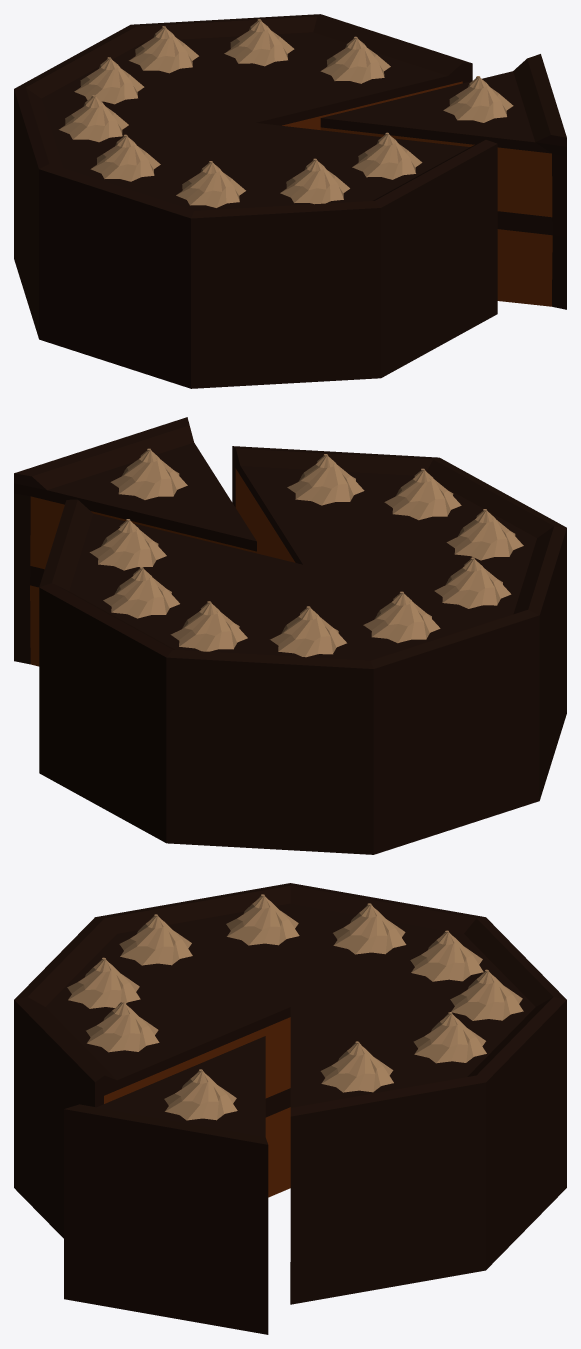
The model's file is Cake_Asam-Pahit_TamarindDarkChocolate-Brownies.fbx.
The picture shows the model from 3 angles, top to bottom: view 1: azimuth 30°, elevation 25°; view 2: azimuth 150°, elevation 25°; view 3: azimuth 270°, elevation 25°; orthographic projection. The views are drawn at different scales.
Visible parts, largest first — view 1: Cylinder, Cylinder.001, Cylinder.007, Cylinder.004, Cylinder.002, Cylinder.009, Cylinder.010, Cylinder.006, Cylinder.003, Cylinder.008, Cylinder.005, Cylinder.011; view 2: Cylinder, Cylinder.001, Cylinder.003, Cylinder.002, Cylinder.007, Cylinder.010, Cylinder.005, Cylinder.011, Cylinder.004, Cylinder.006, Cylinder.009, Cylinder.008; view 3: Cylinder, Cylinder.001, Cylinder.010, Cylinder.004, Cylinder.008, Cylinder.009, Cylinder.003, Cylinder.007, Cylinder.011, Cylinder.002, Cylinder.006, Cylinder.005.
Part boxes in pixels (<box>): Cylinder: <box>14,14,497,388</box>; Cylinder.001: <box>320,54,566,309</box>; Cylinder.007: <box>443,76,513,122</box>; Cylinder.004: <box>176,161,245,207</box>; Cylinder.002: <box>59,95,128,142</box>; Cylinder.009: <box>224,19,294,66</box>; Cylinder.010: <box>129,26,198,73</box>; Cylinder.006: <box>352,132,422,179</box>; Cylinder.003: <box>90,134,160,181</box>; Cylinder.008: <box>320,36,390,83</box>; Cylinder.005: <box>280,158,349,204</box>; Cylinder.011: <box>74,57,144,104</box>; Cylinder: <box>39,446,566,854</box>; Cylinder.001: <box>14,417,256,666</box>; Cylinder.003: <box>434,557,511,608</box>; Cylinder.002: <box>363,591,440,643</box>; Cylinder.007: <box>110,448,187,499</box>; Cylinder.010: <box>170,601,247,651</box>; Cylinder.005: <box>384,468,461,520</box>; Cylinder.011: <box>270,606,346,657</box>; Cylinder.004: <box>446,509,523,560</box>; Cylinder.006: <box>287,454,364,505</box>; Cylinder.009: <box>103,567,179,618</box>; Cylinder.008: <box>89,519,166,570</box>; Cylinder: <box>14,883,566,1304</box>; Cylinder.001: <box>64,1036,268,1334</box>; Cylinder.010: <box>450,969,523,1020</box>; Cylinder.004: <box>119,914,192,965</box>; Cylinder.008: <box>320,1041,393,1092</box>; Cylinder.009: <box>413,1012,486,1063</box>; Cylinder.003: <box>226,894,299,945</box>; Cylinder.007: <box>164,1069,237,1120</box>; Cylinder.011: <box>410,930,483,981</box>; Cylinder.002: <box>333,903,406,954</box>; Cylinder.006: <box>86,1001,159,1052</box>; Cylinder.005: <box>67,957,140,1008</box>.
Bounding box in the file's own units: 372 × 141 × 328.
